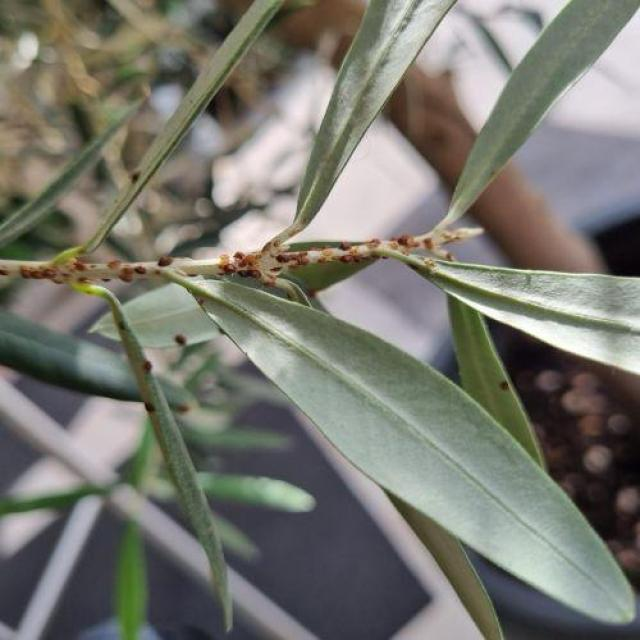Black Scale: (216, 228, 311, 288), (0, 255, 156, 291), (317, 232, 451, 269), (156, 255, 174, 268)
